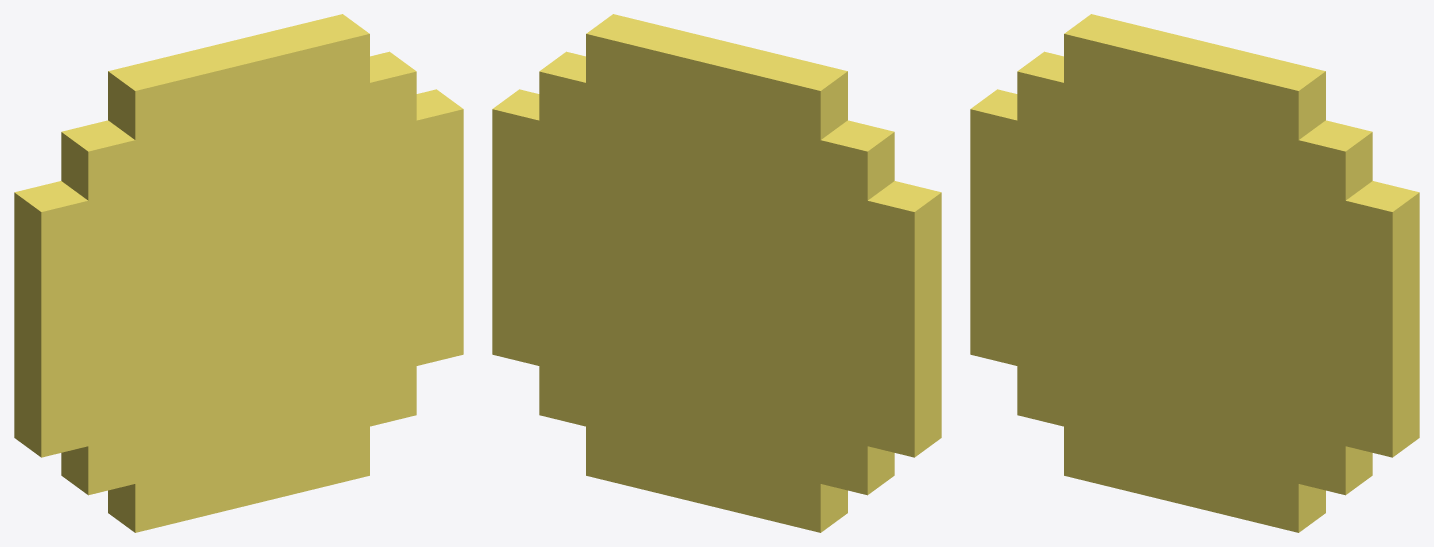
Rendered from Shield-Large-Yellow.vox.obj.
3 renders of one model, left to right at view 1: azimuth 30°, elevation 25°; view 2: azimuth 150°, elevation 25°; view 3: azimuth 330°, elevation 25°, orthographic.
Size of the model in its own units: 0.9 by 0.9 by 0.1.
Materials: 1 (1 with a texture image).
